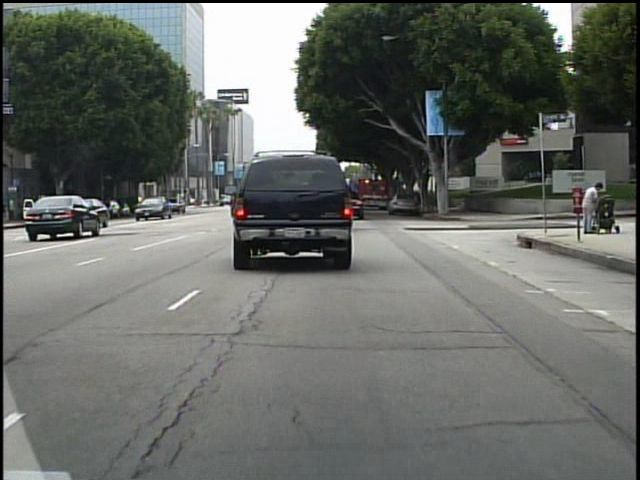person: (577, 179, 601, 235)
